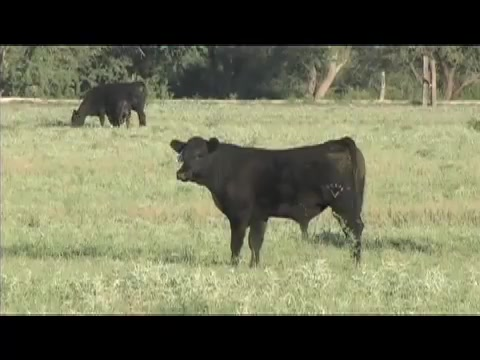cow: (169, 134, 368, 269), (70, 81, 148, 130)
